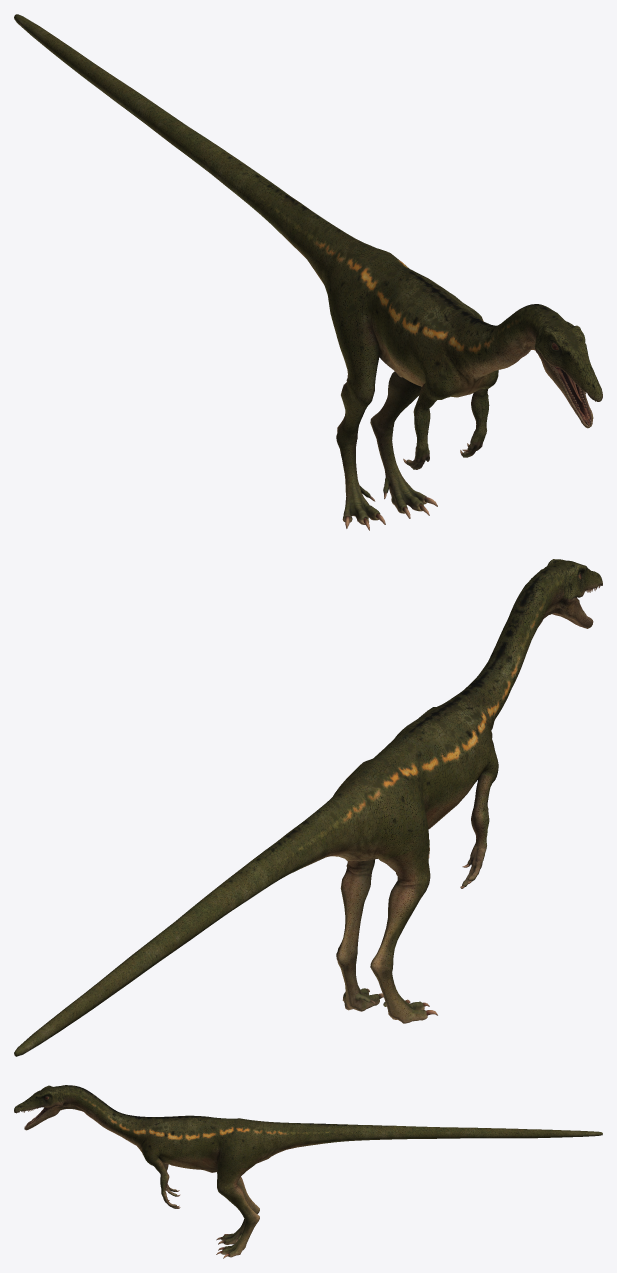
File: jwe2_coelophysis.glb
The picture shows the model from 3 angles, top to bottom: view 1: azimuth 30°, elevation 25°; view 2: azimuth 150°, elevation 25°; view 3: azimuth 270°, elevation 25°; orthographic projection. The views are drawn at different scales.
Visible parts, largest first — view 1: Object_2; view 2: Object_2; view 3: Object_2.
Part boxes in pixels (x1=…): Object_2: x1=14, y1=14, x2=602, y2=530; Object_2: x1=14, y1=559, x2=602, y2=1056; Object_2: x1=14, y1=1085, x2=602, y2=1258.
Bounding box in the file's own units: 3.8 × 12.74 × 41.85.
Materials: 1 (1 with a texture image).
